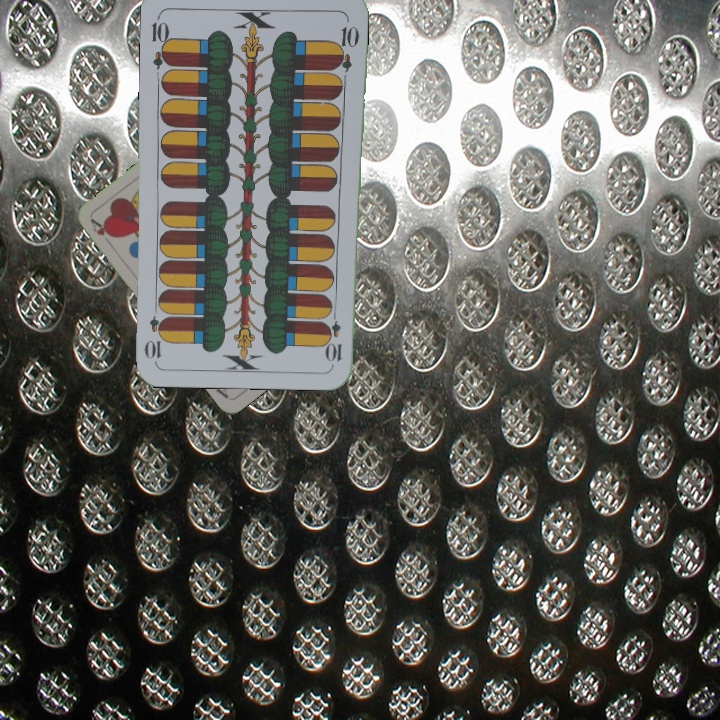E10: (148, 12, 174, 71), (326, 305, 344, 364)
HA: (87, 215, 116, 251)
